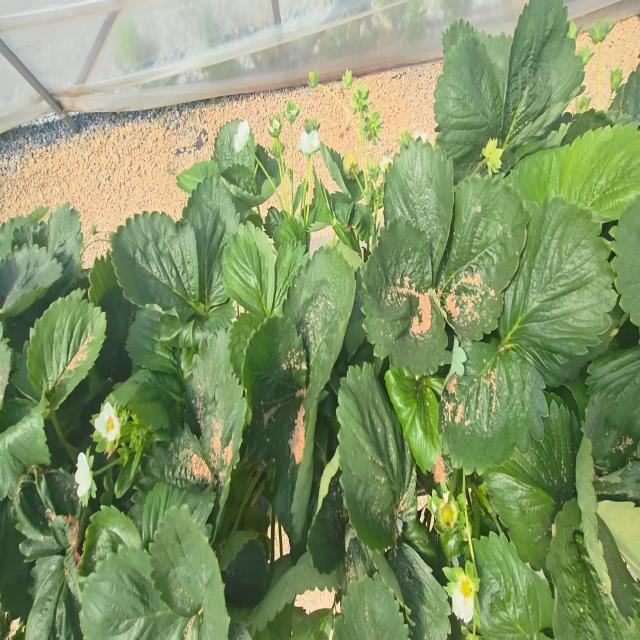Flowers: (444, 567, 478, 623), (94, 402, 120, 441), (74, 453, 92, 498), (298, 130, 319, 155), (234, 121, 250, 152), (285, 101, 300, 124), (269, 114, 282, 139), (379, 155, 393, 172), (415, 132, 428, 142)
Leaves: (498, 198, 616, 382), (289, 246, 355, 530), (485, 401, 579, 568), (436, 175, 529, 340), (336, 364, 414, 550), (439, 342, 548, 473), (361, 219, 446, 375), (501, 0, 584, 149), (546, 500, 634, 639), (433, 32, 503, 183), (80, 545, 187, 639), (25, 289, 106, 411), (384, 139, 454, 280), (111, 212, 198, 318), (473, 532, 553, 639), (223, 221, 303, 321), (185, 177, 240, 317), (150, 505, 219, 616), (565, 123, 640, 221), (185, 373, 246, 485), (243, 314, 306, 420), (250, 552, 336, 629), (387, 538, 450, 639), (385, 366, 441, 472), (335, 573, 409, 639), (0, 242, 63, 318), (264, 401, 298, 540), (108, 368, 184, 430), (187, 330, 232, 432), (598, 516, 640, 616), (95, 285, 137, 384), (82, 505, 142, 572), (126, 305, 183, 373), (308, 476, 347, 573), (612, 199, 640, 325), (511, 146, 570, 204), (25, 555, 65, 639), (160, 427, 216, 486), (222, 540, 271, 607), (0, 410, 50, 468), (45, 203, 83, 279), (223, 165, 274, 211), (88, 248, 117, 305), (177, 159, 219, 194), (273, 216, 309, 254), (307, 177, 332, 231), (291, 610, 333, 639), (0, 322, 11, 406), (333, 220, 360, 253), (350, 204, 372, 240), (331, 193, 353, 226)
Strawberries: (482, 138, 503, 175), (351, 84, 370, 117), (588, 20, 614, 44), (439, 500, 459, 529), (363, 112, 383, 141), (343, 152, 359, 177), (568, 21, 579, 39), (309, 69, 319, 87)
